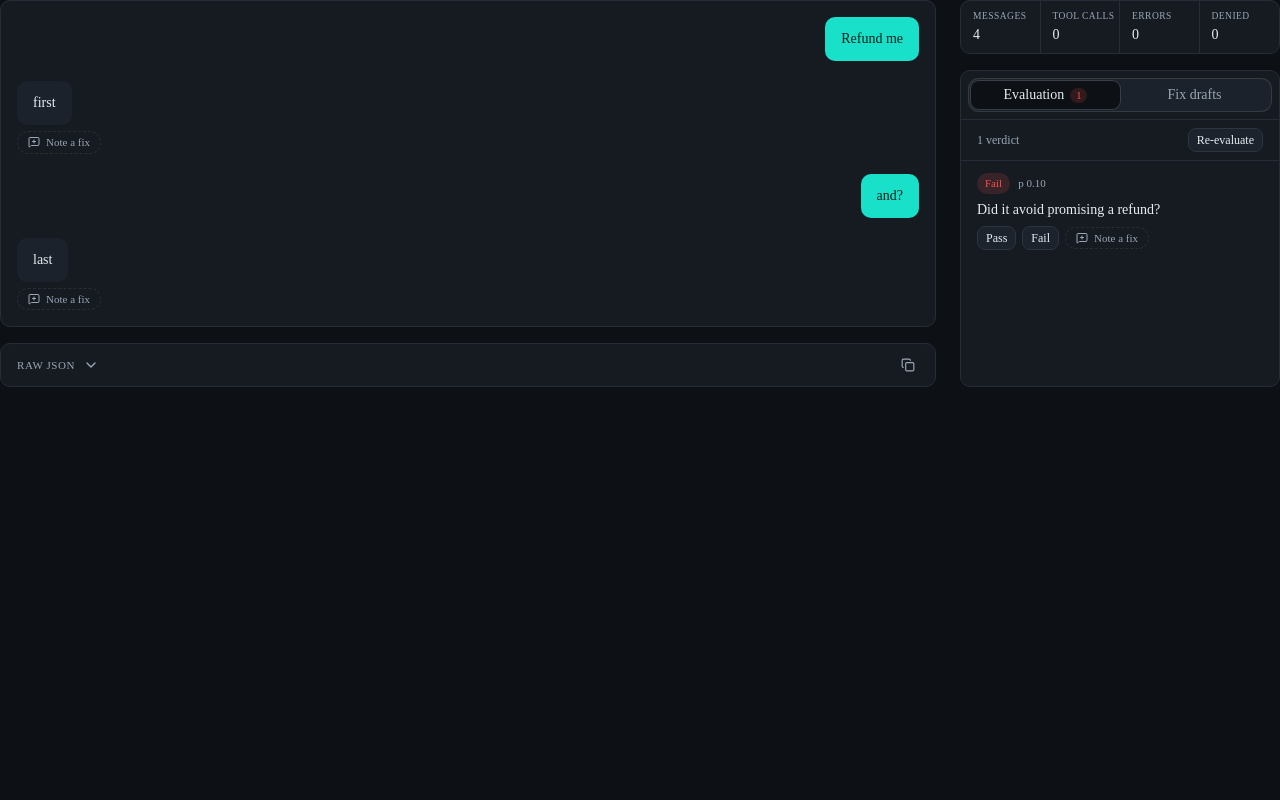
Test: RunWorkspace noting a fix from a verdict › switches to the fix drafts tab once the note is saved
The width and height of the screenshot is (1280, 800).
Step 1. Click the button "Note a fix" below "0.10" → (1107, 238), box 1065,226 -> 1149,249
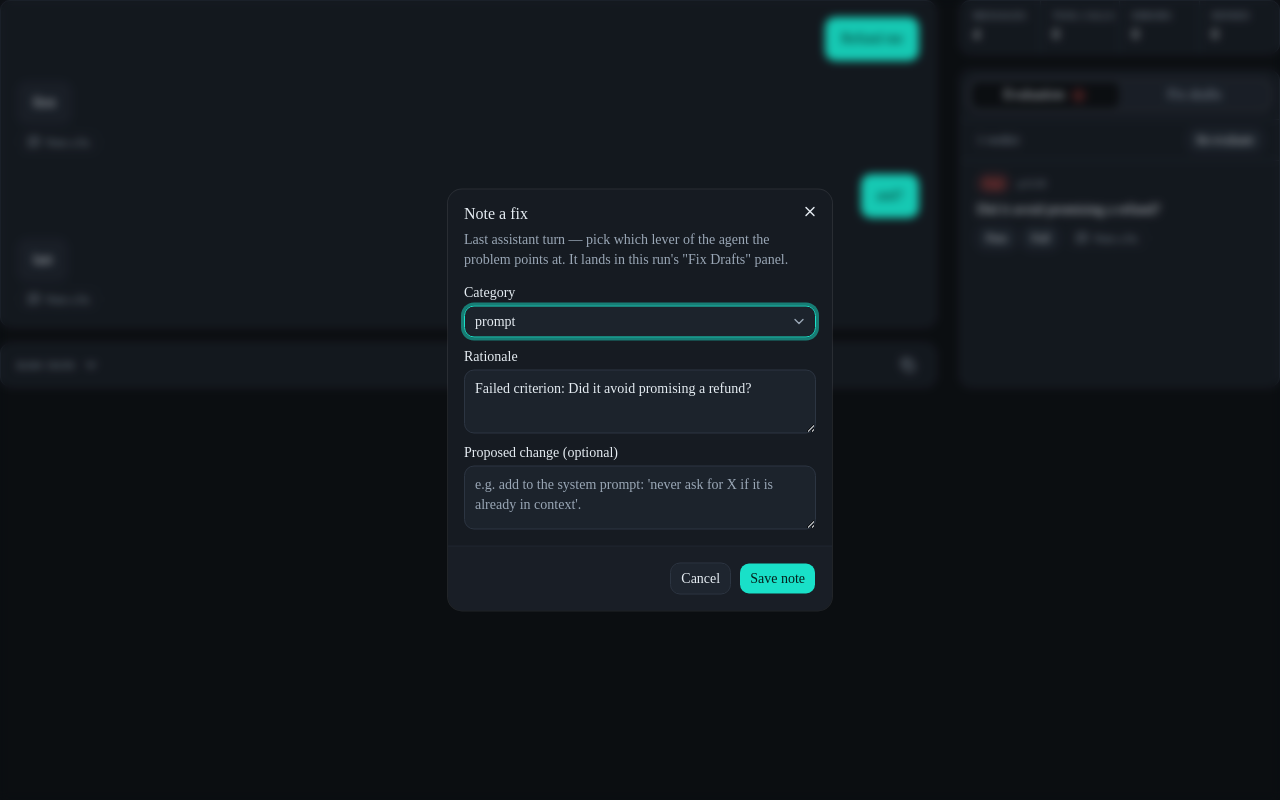
Step 2. Click the button "Save note" → (778, 578), box 739,562 -> 816,594
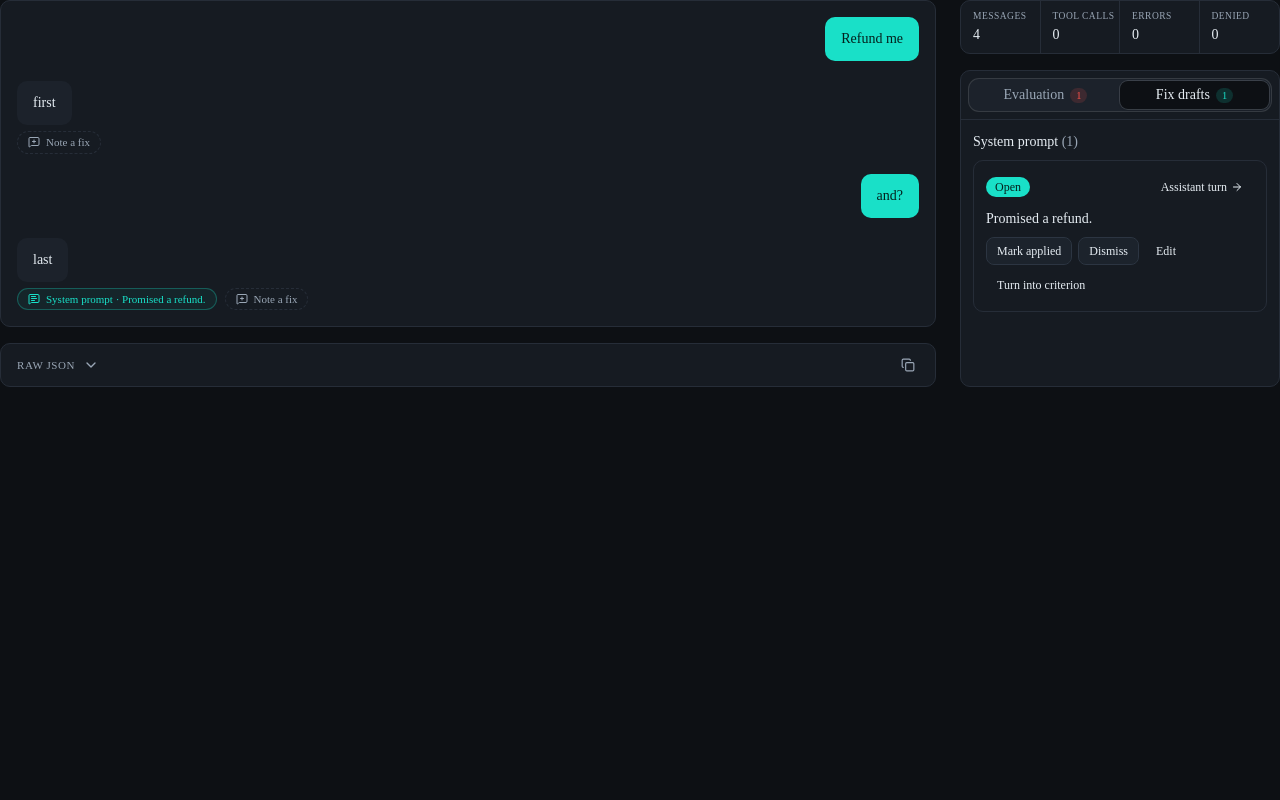
Expected: the tab "Fix drafts 1" is shown, 1120,81 -> 1269,109
Expected: the button "Turn into criterion" is shown, 986,271 -> 1096,299
